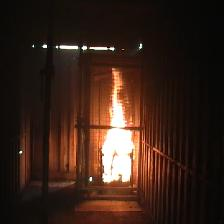fire: (101, 67, 135, 182)
